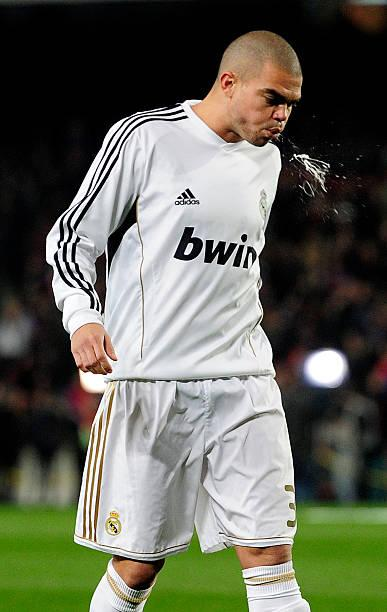Spitting: (190, 26, 368, 222)
